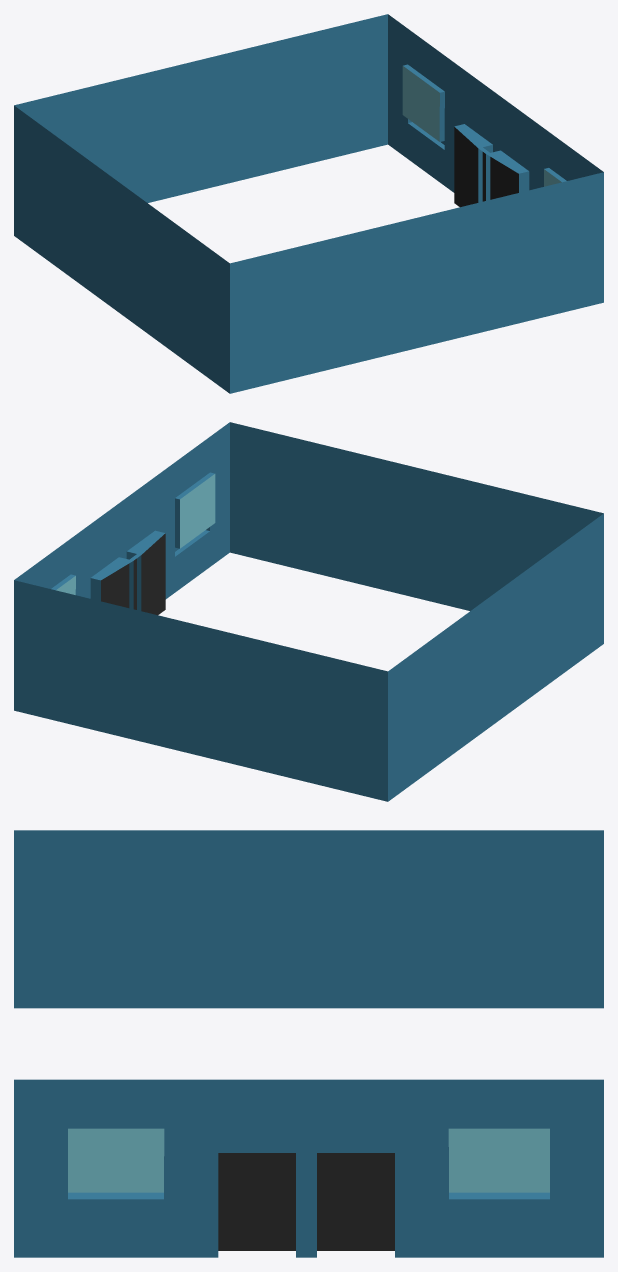
Rendered from SkyScraper_Bottom_05_blue.fbx.
3 renders of one model, top to bottom at view 1: azimuth 30°, elevation 25°; view 2: azimuth 150°, elevation 25°; view 3: azimuth 270°, elevation 25°, orthographic. The views are drawn at different scales.
Parts seen in each view (by area): view 1: SkyScraper1_Bottom_06; view 2: SkyScraper1_Bottom_06; view 3: SkyScraper1_Bottom_06.
Boxes of the visible parts, x1=… form: SkyScraper1_Bottom_06: x1=14, y1=14, x2=603, y2=393; SkyScraper1_Bottom_06: x1=14, y1=422, x2=603, y2=801; SkyScraper1_Bottom_06: x1=14, y1=830, x2=603, y2=1257.
Size of the model in its own units: 97.29 by 32 by 96.
